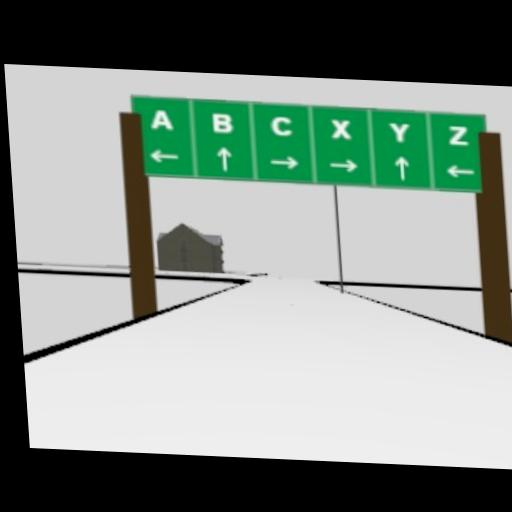A: (149, 108, 172, 130)
B: (210, 112, 233, 133)
C: (269, 115, 292, 136)
Left: (148, 149, 179, 163), (446, 164, 474, 178)
Right: (328, 157, 358, 173), (268, 154, 299, 168)
Straight: (216, 146, 232, 171), (393, 155, 409, 178)
X: (330, 117, 351, 138)
Y: (387, 120, 410, 142)
Z: (446, 125, 469, 145)
